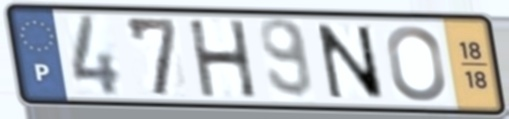4: (67, 13, 126, 99)
7: (121, 15, 183, 99)
9: (259, 16, 318, 106)
H: (184, 18, 260, 100)
N: (313, 22, 390, 102)
O: (383, 23, 449, 104)
